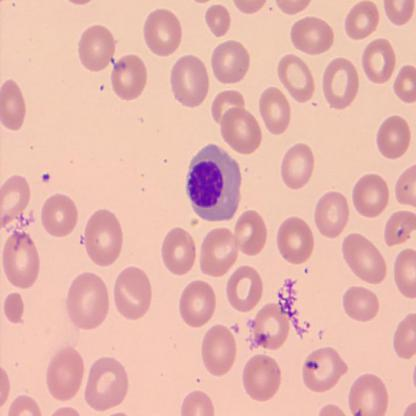NRC: (184, 143, 242, 223)
